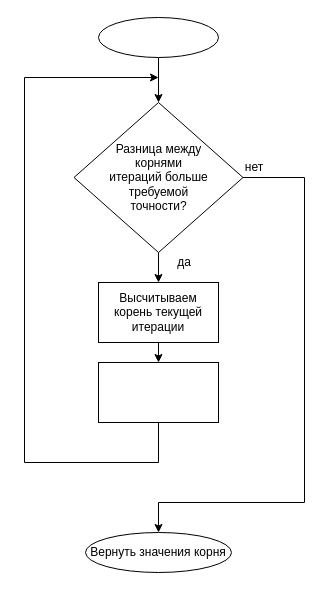
Some shapes in this 330 by 590 pixel diagram are drawn without their labels. Here are the shapes that lost their labels. From the top down, the centre of each, then its label:
point (158, 37): НАЧАЛО
point (158, 392): Высчитываем корень след. итерации
